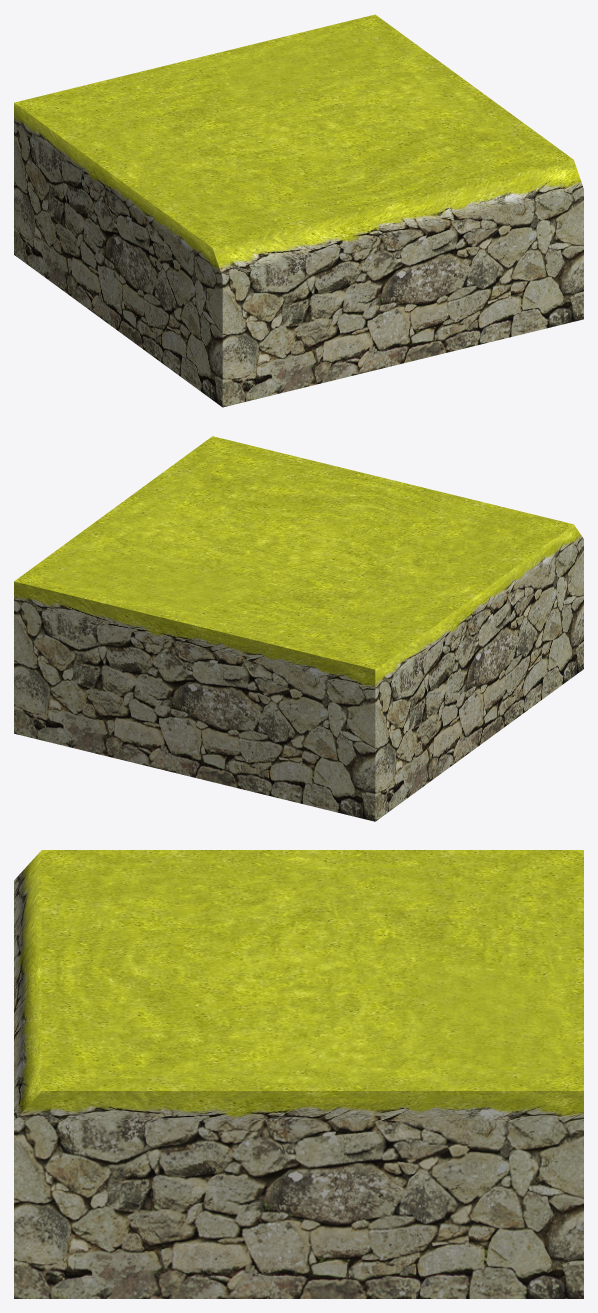
Rendered from Big_Rock_Ledge_Extend_01.fbx.
3 renders of one model, top to bottom at view 1: azimuth 30°, elevation 25°; view 2: azimuth 150°, elevation 25°; view 3: azimuth 270°, elevation 25°, orthographic. The views are drawn at different scales.
Parts seen in each view (by area): view 1: bigCubeReference_polySurface4; view 2: bigCubeReference_polySurface4; view 3: bigCubeReference_polySurface4.
Boxes of the visible parts, x1,y1,x2,y2 form: bigCubeReference_polySurface4: (14,14,583,407); bigCubeReference_polySurface4: (14,436,583,821); bigCubeReference_polySurface4: (14,850,583,1298).
Bounding box in the file's own units: 9.77 × 3.93 × 9.77.
Materials: 1 (1 with a texture image).
